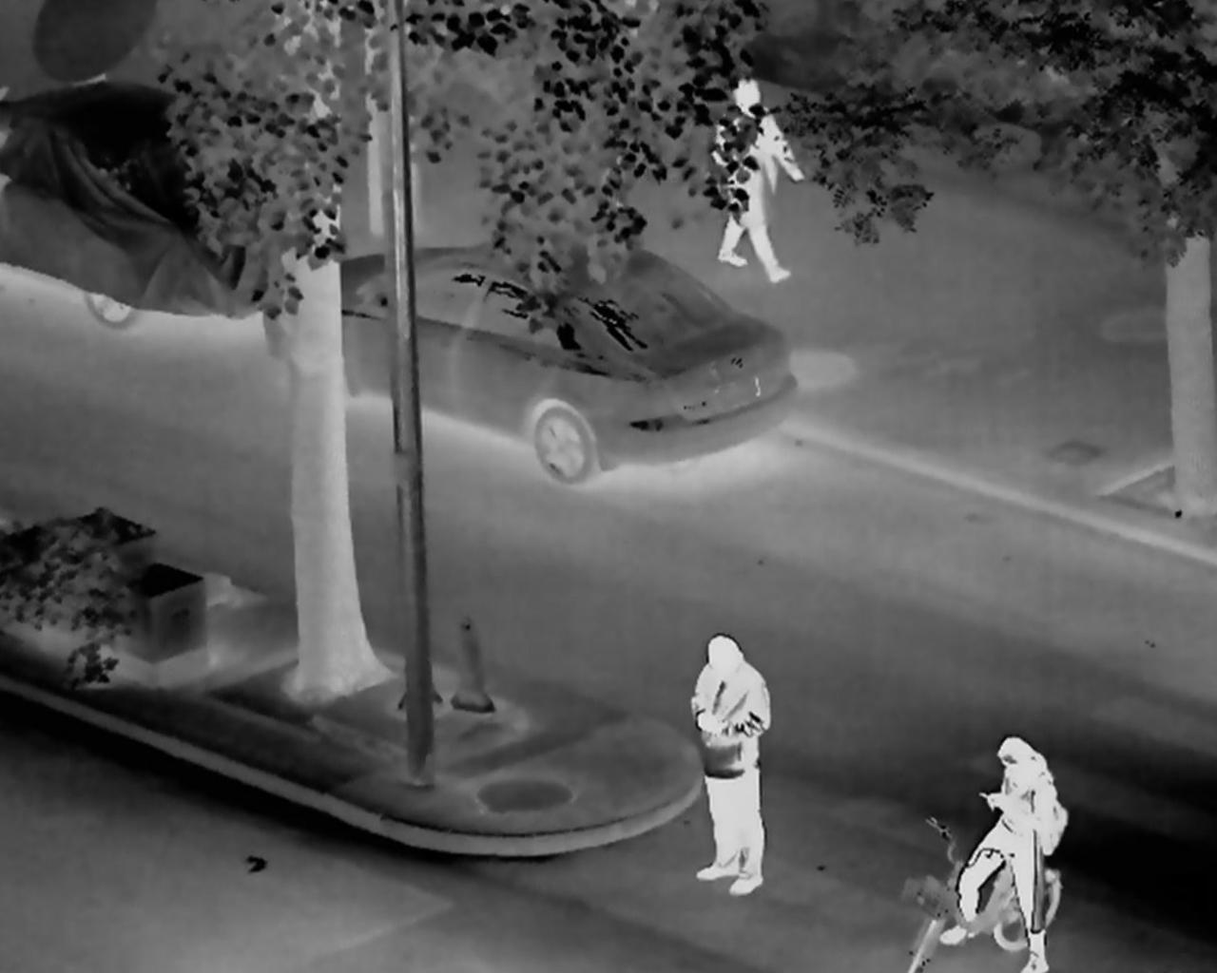person: (943, 735, 1060, 973), (686, 634, 769, 896), (705, 74, 802, 280)
